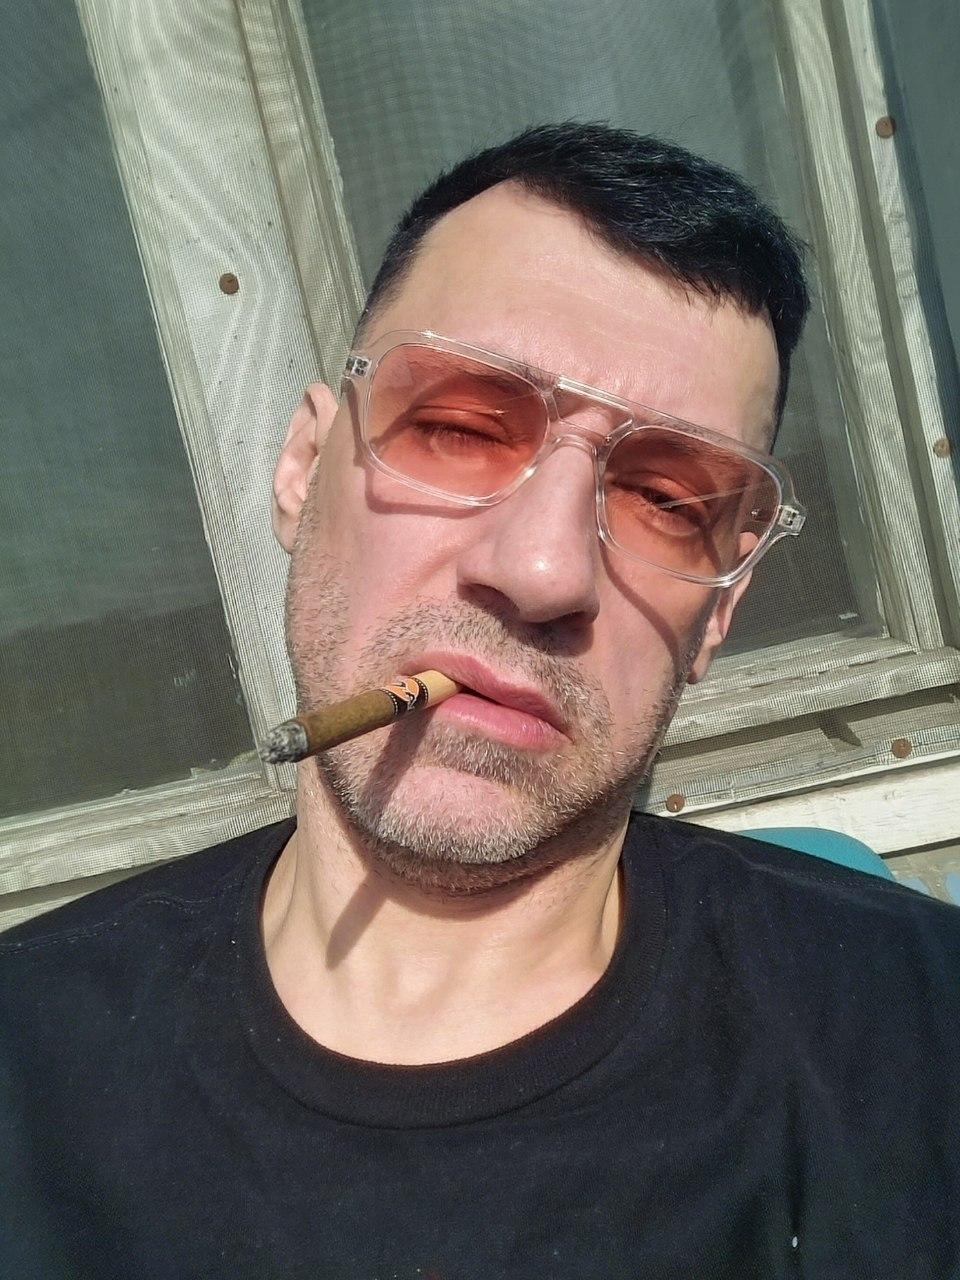cigarette: (258, 668, 464, 768)
